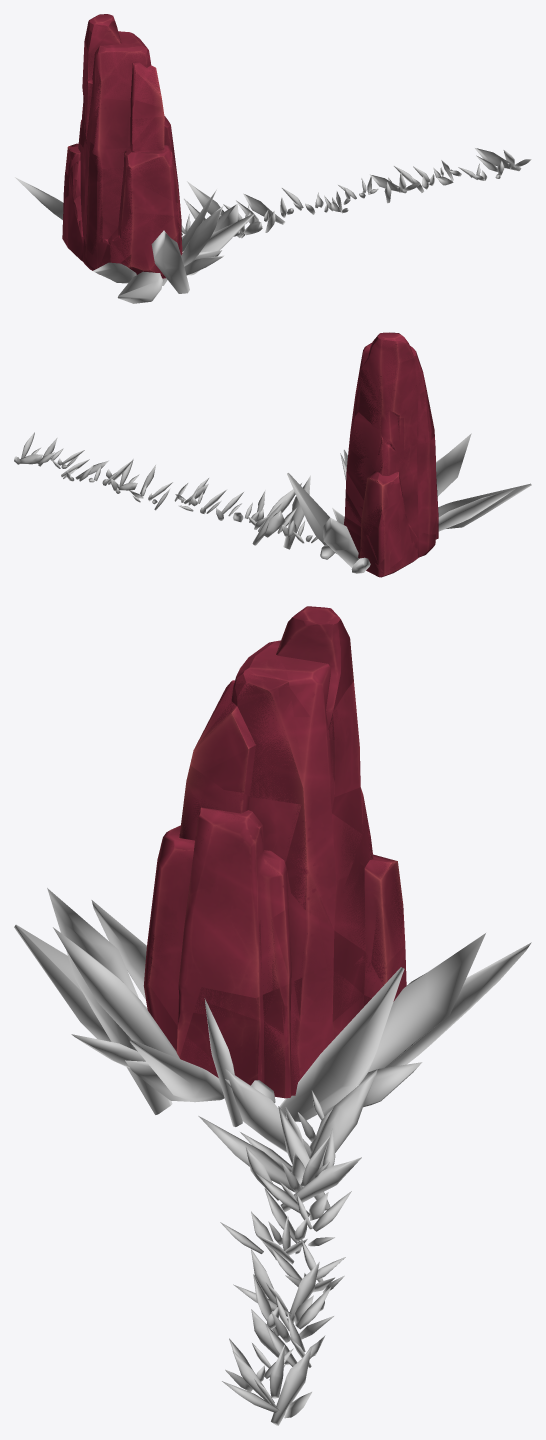
File: daoju_NMecha_00005_Skin_0002_shuijingshi_NoSkin.fbx
3 views of the same model, one above another, from view 1: azimuth 30°, elevation 25°; view 2: azimuth 150°, elevation 25°; view 3: azimuth 270°, elevation 25° (orthographic). The views are drawn at different scales.
Visible parts, largest first — view 1: CarEnter_00005_002_shuijingda_posui, CarEnter_00005_002_shuijingda, CarEnter_00005_002_shuijingxiao; view 2: CarEnter_00005_002_shuijingda_posui, CarEnter_00005_002_shuijingxiao, CarEnter_00005_002_shuijingda; view 3: CarEnter_00005_002_shuijingda, CarEnter_00005_002_shuijingxiao, CarEnter_00005_002_shuijingda_posui.
Part boxes in pixels (x1,y1,x2,y2): CarEnter_00005_002_shuijingda_posui: (62, 15, 182, 278); CarEnter_00005_002_shuijingda: (63, 14, 181, 277); CarEnter_00005_002_shuijingxiao: (15, 148, 531, 303); CarEnter_00005_002_shuijingda_posui: (344, 335, 438, 576); CarEnter_00005_002_shuijingxiao: (14, 432, 531, 573); CarEnter_00005_002_shuijingda: (344, 332, 438, 577); CarEnter_00005_002_shuijingda: (144, 606, 403, 1089); CarEnter_00005_002_shuijingxiao: (14, 888, 531, 1425); CarEnter_00005_002_shuijingda_posui: (143, 606, 406, 1098).
Bounding box in the file's own units: 70.51 × 36.5 × 35.88.
